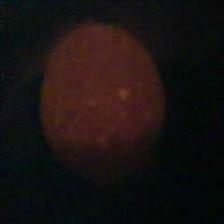fertile: (39, 20, 167, 184)
